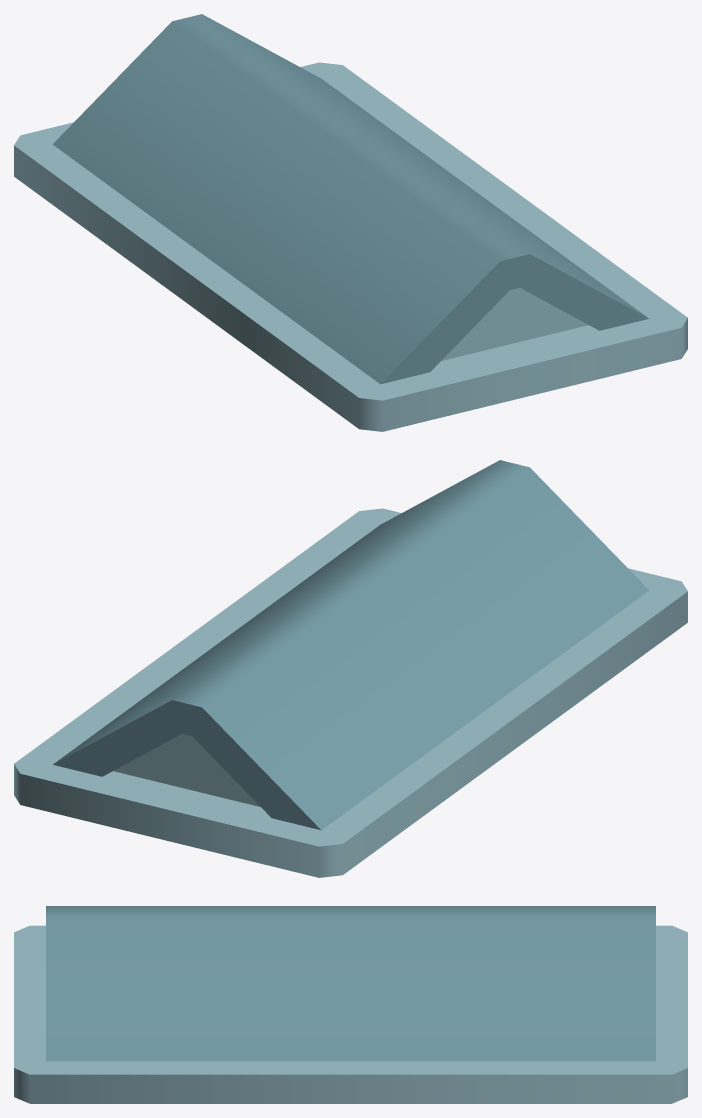
Rendered from cryptLargeRoof.fbx.
3 renders of one model, top to bottom at view 1: azimuth 30°, elevation 25°; view 2: azimuth 150°, elevation 25°; view 3: azimuth 270°, elevation 25°, orthographic. The views are drawn at different scales.
Visible parts, largest first — view 1: cryptLargeRoof; view 2: cryptLargeRoof; view 3: cryptLargeRoof.
Part boxes in pixels (bbox=[...]): cryptLargeRoof: bbox=[14, 14, 687, 431]; cryptLargeRoof: bbox=[14, 460, 687, 877]; cryptLargeRoof: bbox=[14, 906, 687, 1103].
Bounding box in the file's own units: 11 × 4 × 21.
